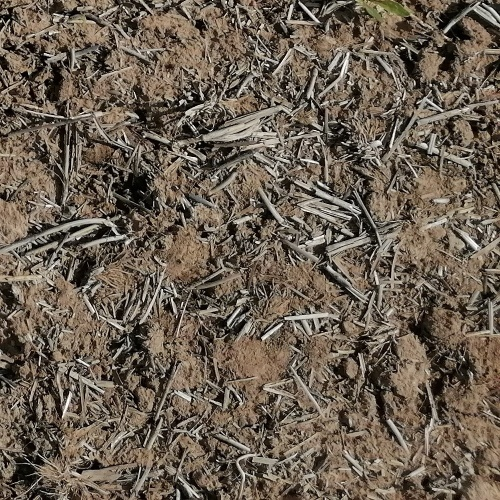beet: (354, 0, 414, 17)
